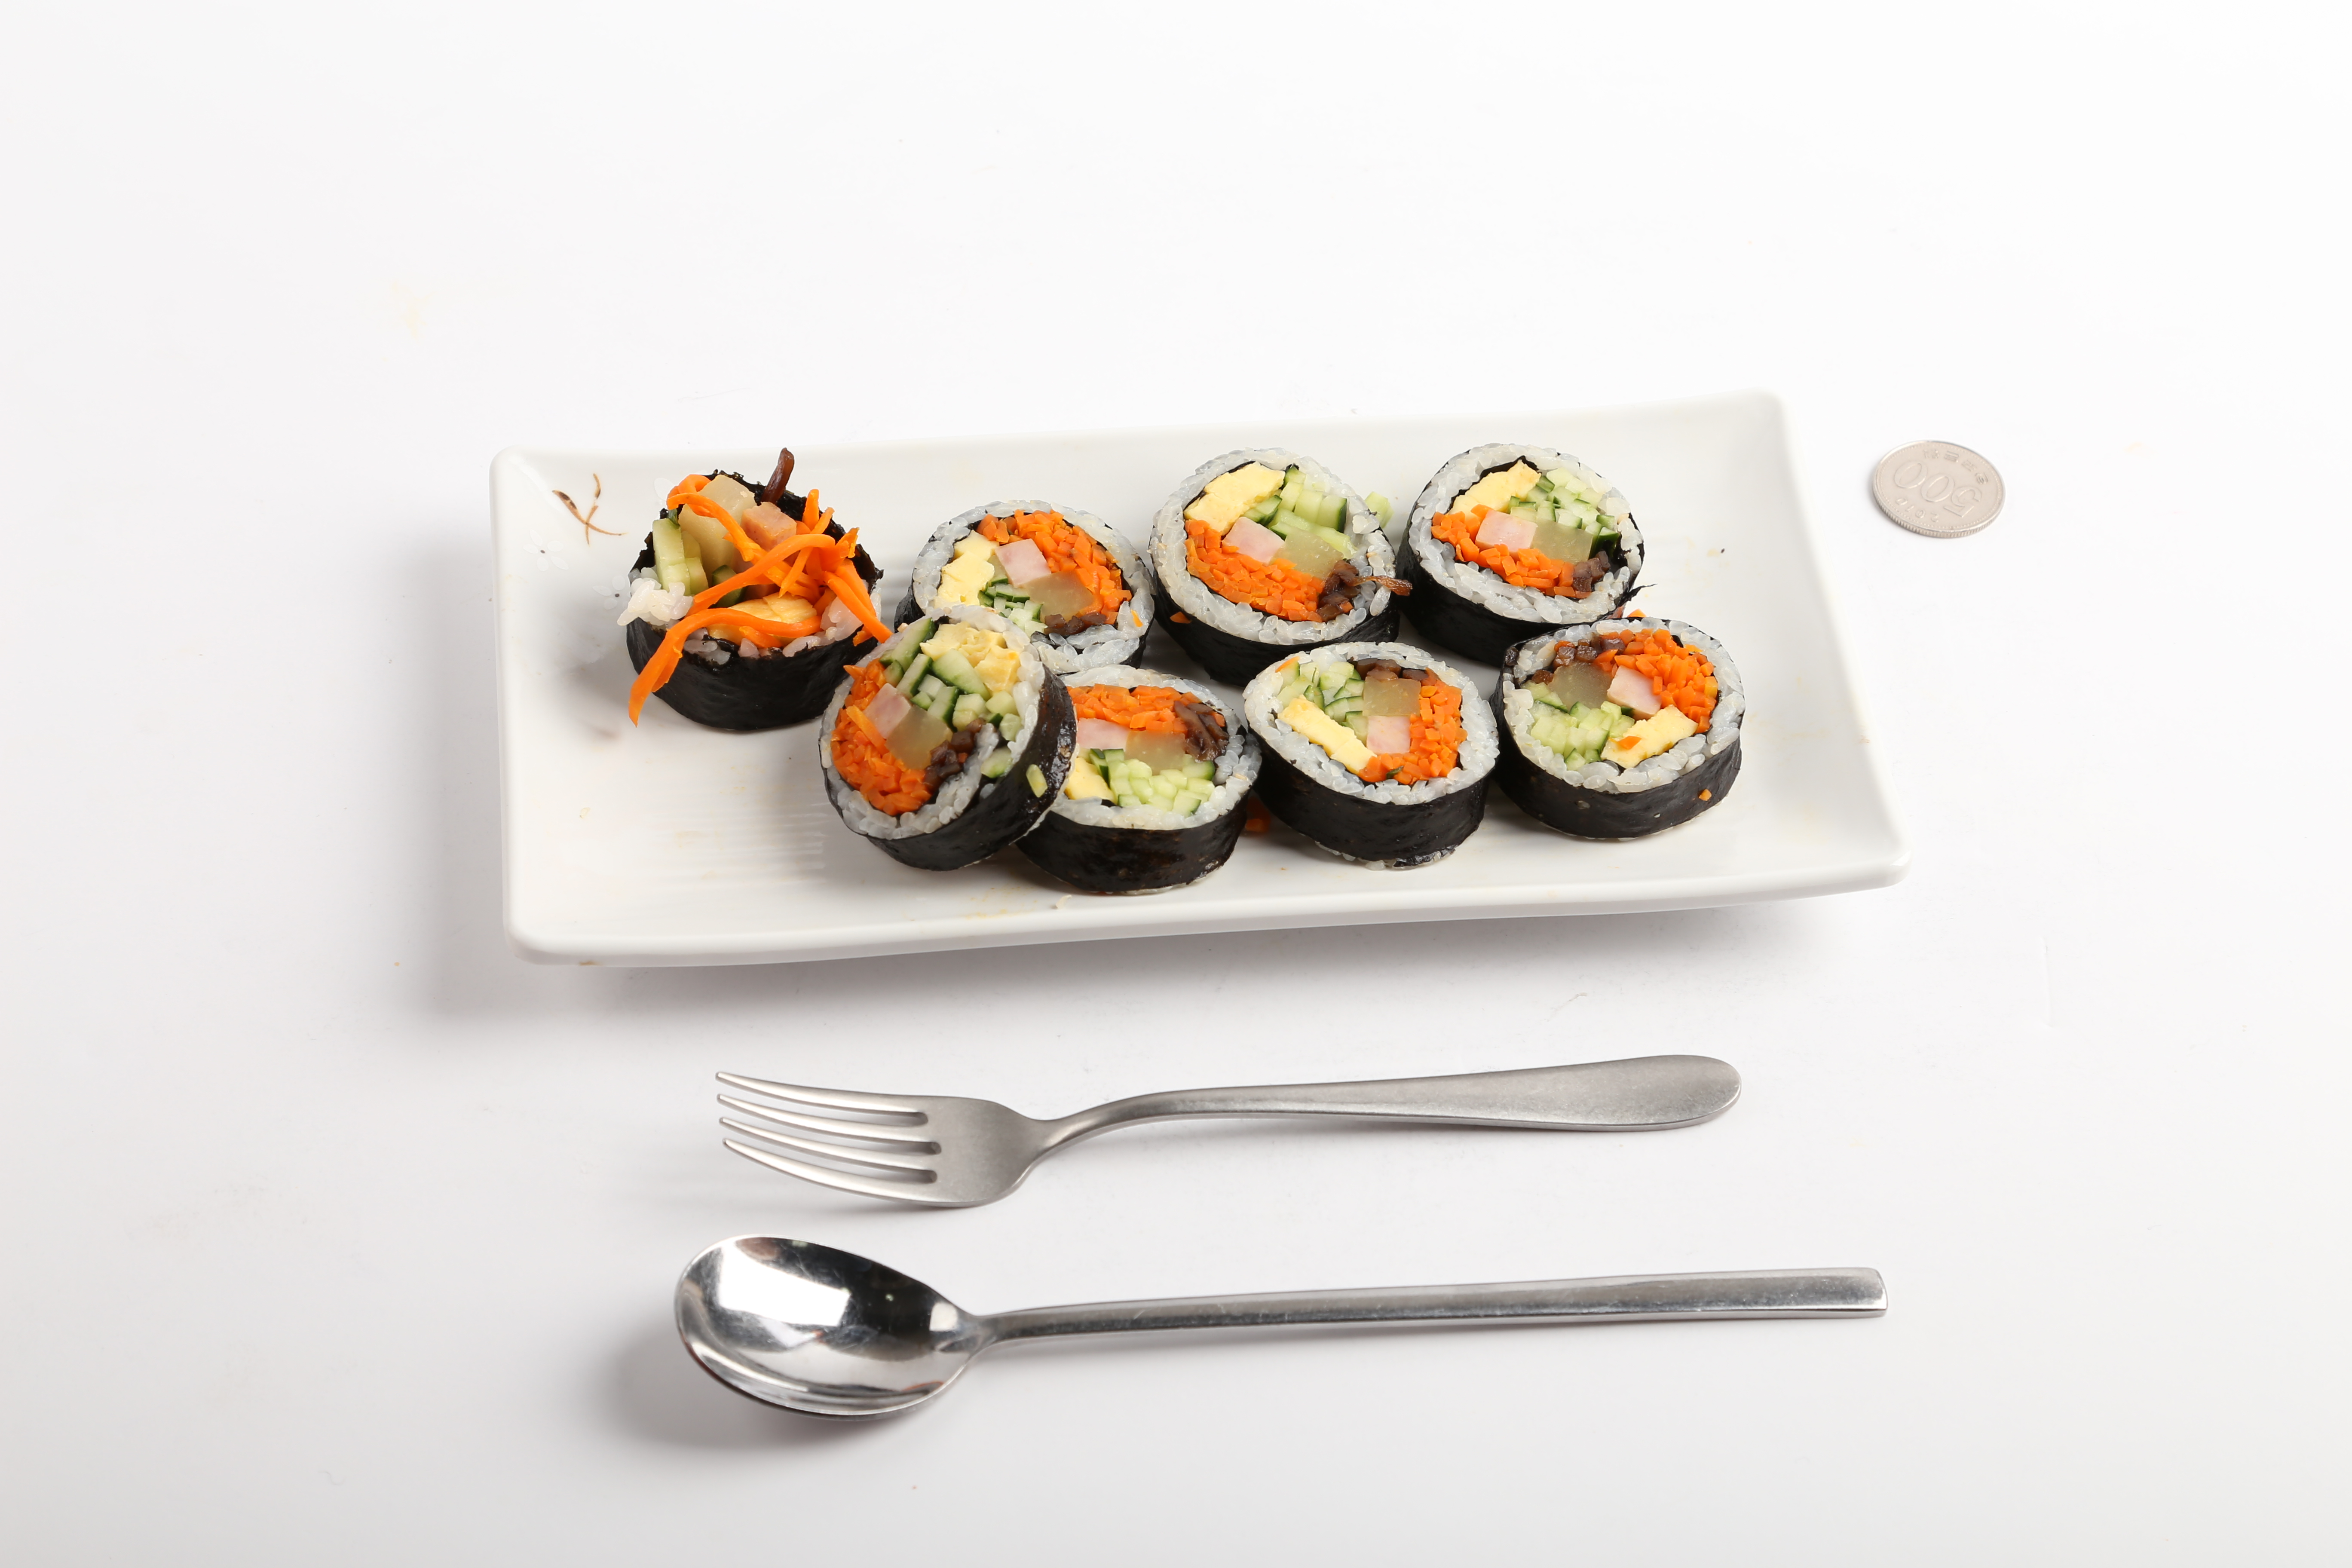dish: (490, 387, 1909, 980)
ref_coin: (1855, 427, 2016, 544)
ref_fork: (712, 1057, 1106, 1213)
ref_spoon: (665, 1227, 1043, 1426)
김밥: (616, 436, 1750, 901)
